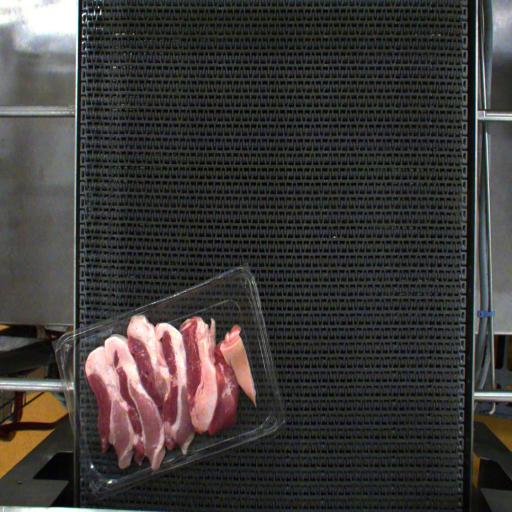twisted-meat: (222, 330, 260, 418)
